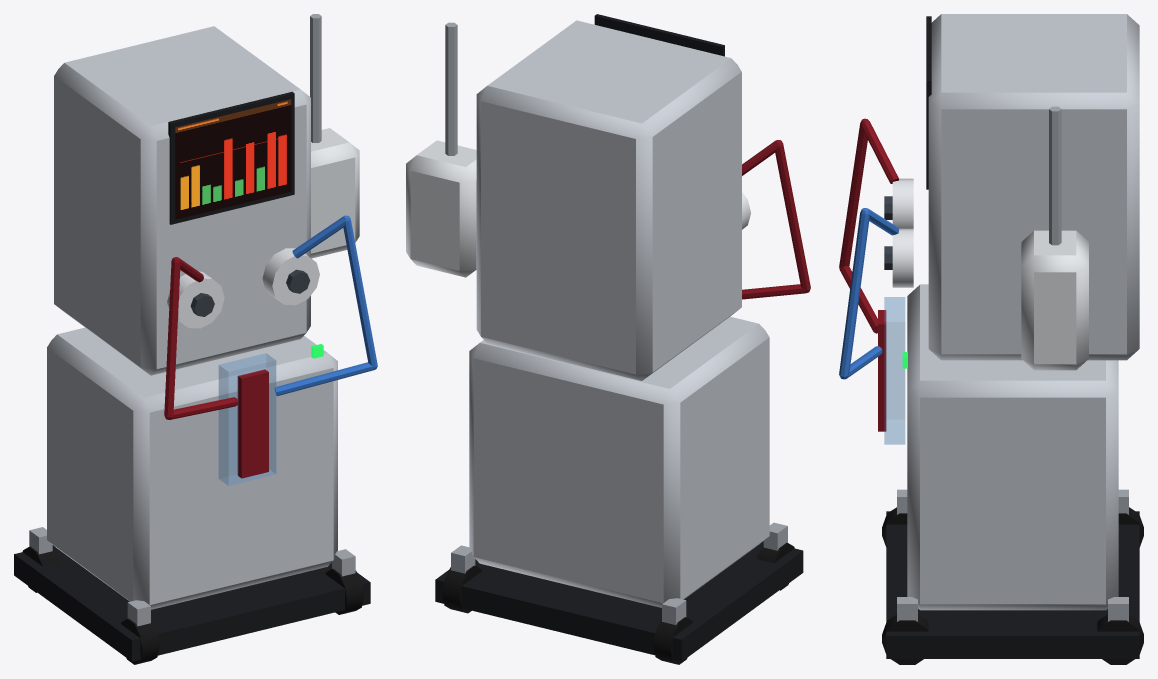
Rendered from surgical_dialysis_machine.glb.
3 renders of one model, left to right at view 1: azimuth 30°, elevation 25°; view 2: azimuth 150°, elevation 25°; view 3: azimuth 270°, elevation 25°, orthographic. The views are drawn at different scales.
Visible parts, largest first — view 1: surgical_dialysis_machine; view 2: surgical_dialysis_machine; view 3: surgical_dialysis_machine.
Boxes of the visible parts, box(x1,y1,x2,y2) form: surgical_dialysis_machine: box(14, 14, 377, 664); surgical_dialysis_machine: box(406, 14, 810, 664); surgical_dialysis_machine: box(839, 14, 1143, 664).
Size of the model in its own units: 0.87 by 1.5 by 0.722.
Materials: 12 (1 with a texture image).
